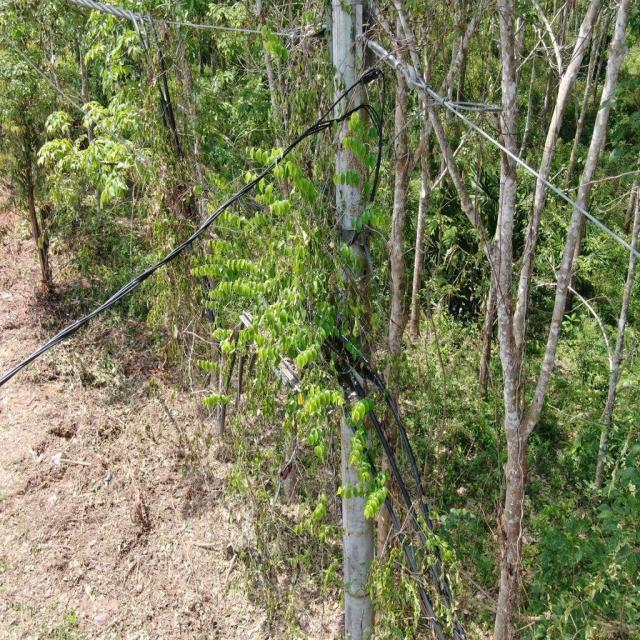critical vegetation: (261, 23, 464, 640)
